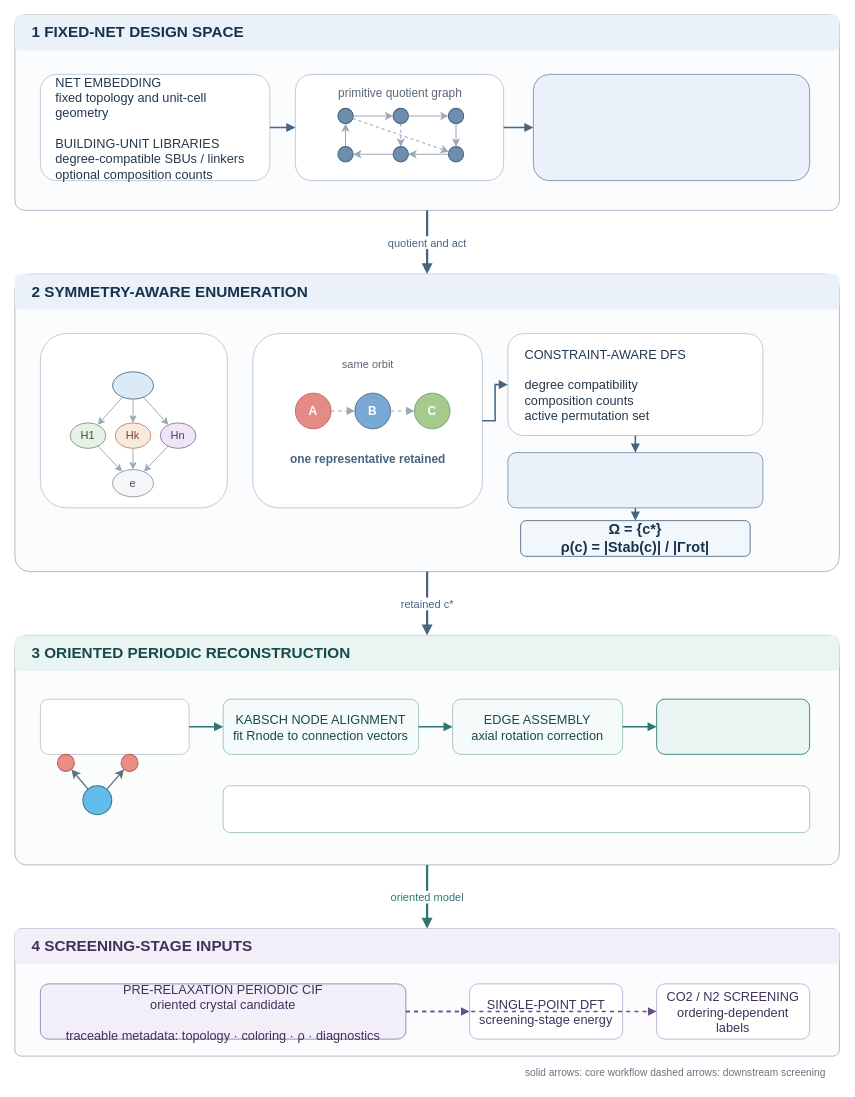
The diagram is 855 pixels wide and 1097 high, and some of its shapes have lost their labels. The shapes that lost their labels are listed below. From the top down, each one's box as (x1, y1, x2, y2) in pixels, then its label:
(533, 74, 810, 181): G = (V, E) Γrot ⊂ Aut(G) orientation-preserving operations
(112, 371, 153, 399): Γrot
(40, 333, 227, 508): SUBGROUP LATTICE L(Γrot)
(252, 333, 482, 508): ORBIT CONSTRAINTS H-orbits → Fix(H) one color per constrained orbit
(507, 452, 763, 508): FULL-GROUP CANONICALIZATION c* = min g∈Γrot (g · c)
(40, 698, 189, 754): canonical assignment c*
(656, 698, 810, 754): PERIODIC ASSEMBLY oriented SBUs / linkers in unit cell
(222, 785, 810, 833): STRUCTURAL DIAGNOSTICS topology restoration · clash checks · symmetry record
